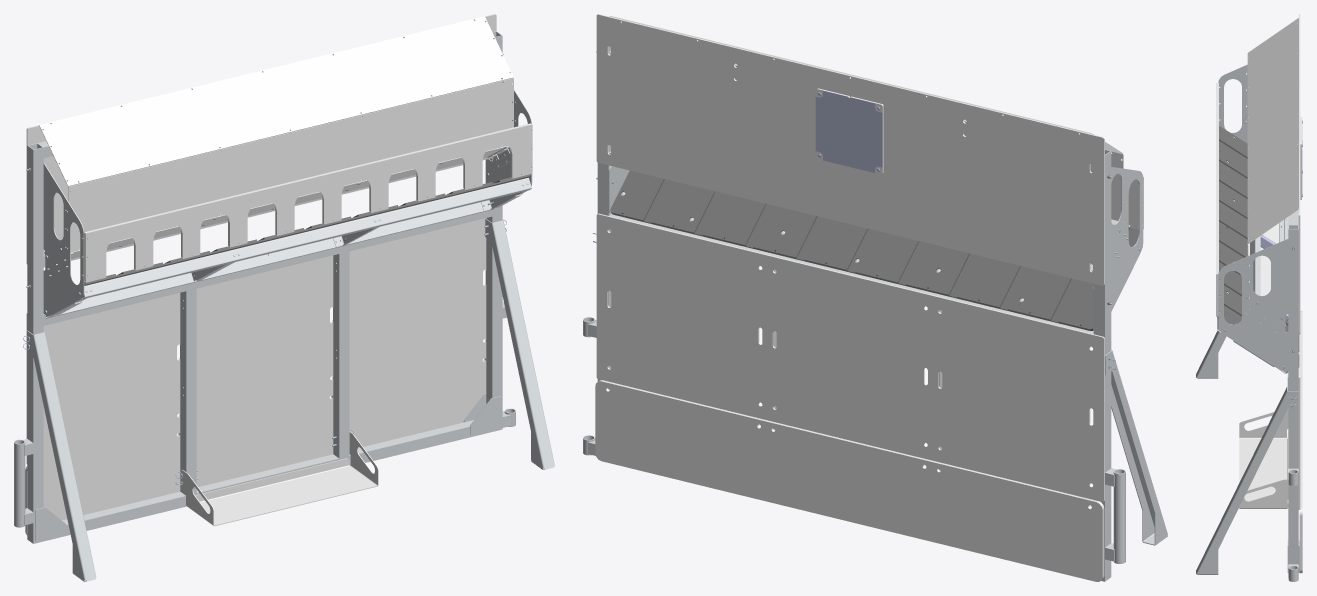
3 views of the same model, side by side, from view 1: azimuth 30°, elevation 25°; view 2: azimuth 150°, elevation 25°; view 3: azimuth 270°, elevation 25° (orthographic). The views are drawn at different scales.
Visible parts, largest first — view 1: Solid1.056, Solid1.154, Solid1.055, Solid1.153, Solid1.152, Solid1.163, Solid1.058, Solid1.024, Solid1.029, Solid1.149, Solid1.148, Solid1.059 (+12 smaller); view 2: Solid1.056, Solid1.057, Solid1.055, Solid1.088, Solid1.166, Solid1.149, Solid1.024, Solid1.039, Solid1.028, Solid1.027, Solid1.154, Solid1.020; view 3: Solid1.154, Solid1.047, Solid1.088, Solid1.163, Solid1.020, Solid1.148, Solid1.039, Solid1.055, Solid1.057, Solid1.149, Solid1.152, Solid1.103 (+6 smaller).
Part boxes in pixels (x1,y1,x2,y2): Solid1.056: (26, 218, 486, 464); Solid1.154: (39, 16, 513, 186); Solid1.055: (25, 354, 486, 535); Solid1.153: (68, 78, 513, 252); Solid1.152: (84, 123, 532, 282); Solid1.163: (180, 431, 378, 526); Solid1.058: (83, 177, 531, 298); Solid1.024: (27, 143, 43, 543); Solid1.029: (43, 420, 492, 541); Solid1.149: (26, 330, 96, 581); Solid1.148: (485, 218, 554, 469); Solid1.059: (44, 202, 494, 318); Solid1.056: (596, 213, 1104, 501); Solid1.057: (596, 14, 1104, 285); Solid1.055: (595, 380, 1104, 581); Solid1.088: (610, 170, 1138, 330); Solid1.166: (815, 90, 882, 173); Solid1.149: (1105, 349, 1167, 545); Solid1.024: (1093, 149, 1111, 581); Solid1.039: (1093, 167, 1143, 330); Solid1.028: (609, 214, 1093, 333); Solid1.027: (1113, 469, 1125, 563); Solid1.154: (610, 16, 1123, 154); Solid1.020: (597, 46, 611, 389); Solid1.154: (1247, 18, 1299, 243); Solid1.047: (1218, 239, 1288, 370); Solid1.088: (1217, 126, 1299, 367); Solid1.163: (1239, 409, 1288, 508); Solid1.020: (1288, 225, 1298, 564); Solid1.148: (1196, 386, 1298, 574); Solid1.039: (1218, 64, 1247, 143); Solid1.055: (1299, 311, 1302, 573); Solid1.057: (1298, 14, 1300, 334); Solid1.149: (1196, 331, 1226, 378); Solid1.152: (1216, 82, 1218, 316); Solid1.103: (1248, 223, 1285, 325).
Bounding box in the file's own units: 216 × 170 × 45.5.
